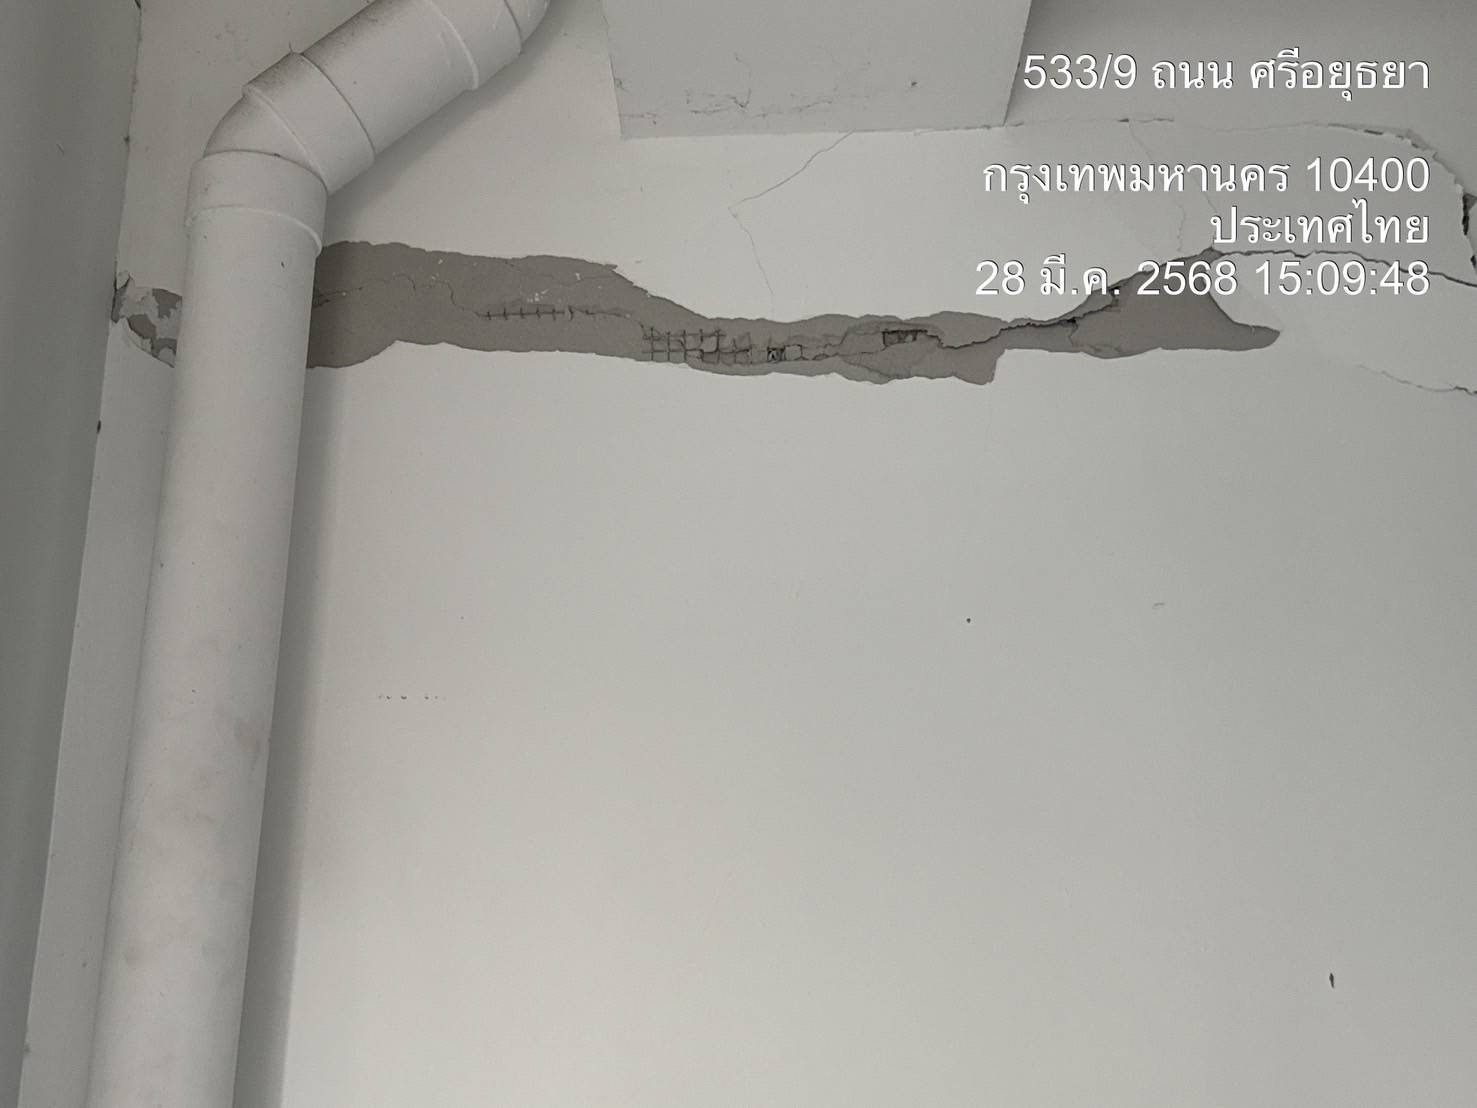Medium: (634, 290, 1190, 393)
